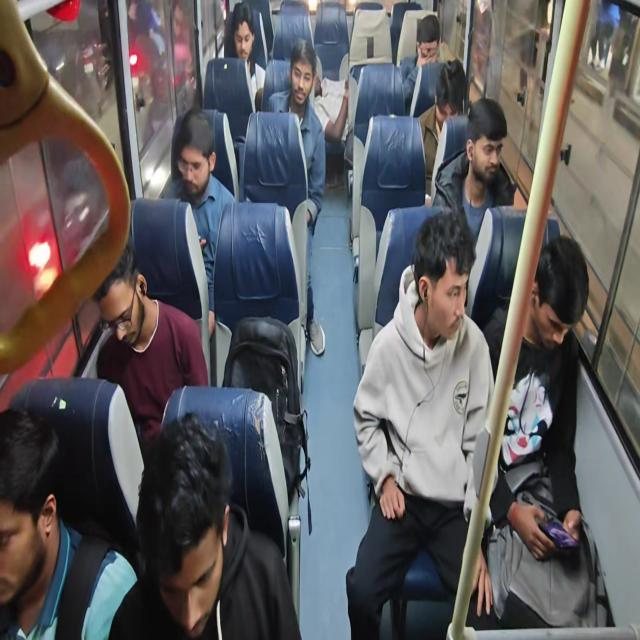person: (346, 206, 496, 638), (467, 233, 613, 631), (0, 0, 131, 376), (108, 411, 302, 639), (0, 406, 138, 639), (92, 239, 209, 456), (268, 39, 327, 355), (158, 106, 236, 338), (430, 96, 516, 243), (418, 58, 466, 176), (224, 2, 266, 112), (399, 13, 443, 114), (142, 56, 174, 147), (312, 74, 350, 142), (467, 6, 492, 104)
